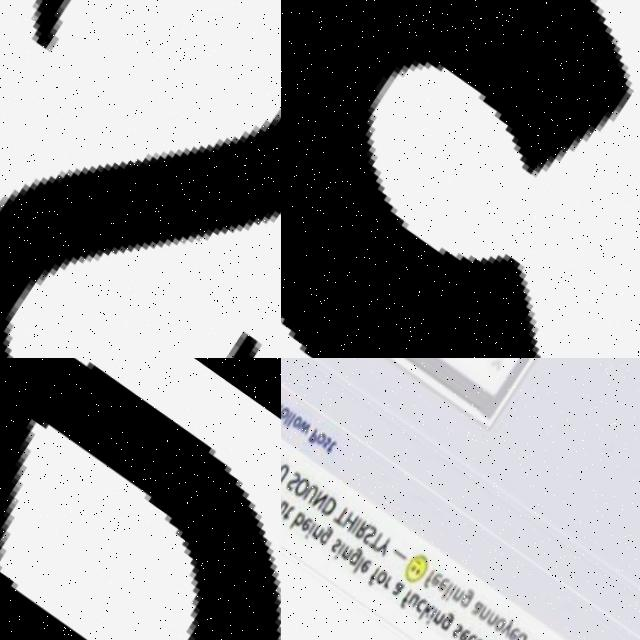A: (468, 593, 484, 614), (390, 576, 404, 595), (524, 631, 539, 640)
B: (287, 508, 307, 533)
C: (281, 0, 640, 358), (412, 592, 428, 611), (462, 626, 477, 640)
D: (318, 491, 338, 516), (509, 624, 527, 640)
E: (297, 510, 313, 531), (428, 566, 444, 585), (456, 621, 472, 639), (357, 554, 372, 573), (435, 570, 450, 589), (506, 619, 520, 638)
F: (364, 562, 382, 585), (397, 585, 414, 608), (420, 564, 436, 585)
G: (346, 542, 364, 565), (438, 605, 456, 628), (317, 523, 333, 544), (458, 583, 474, 604)
H: (340, 506, 360, 530)
I: (424, 601, 439, 622), (332, 538, 347, 558), (302, 518, 316, 539), (444, 578, 457, 598), (351, 515, 362, 531)
K: (416, 597, 434, 620)
L: (352, 552, 364, 572), (440, 578, 451, 595), (282, 408, 292, 424), (286, 411, 294, 426)
N: (310, 487, 328, 509), (484, 604, 500, 623), (310, 520, 325, 539), (431, 603, 446, 622), (476, 598, 491, 617), (450, 580, 464, 599), (338, 542, 352, 558), (477, 636, 492, 640)
O: (291, 472, 311, 498), (372, 564, 388, 583), (492, 609, 507, 628), (289, 412, 303, 428), (314, 429, 326, 444), (469, 630, 484, 640), (281, 403, 290, 419)
P: (304, 422, 320, 443)
R: (353, 516, 369, 537), (382, 570, 394, 587)
S: (0, 0, 281, 358), (283, 467, 303, 492), (360, 520, 378, 543), (448, 616, 464, 635), (328, 533, 342, 552), (320, 434, 332, 449), (530, 636, 545, 640)
T: (366, 525, 386, 549), (332, 501, 351, 523), (281, 502, 295, 520), (324, 436, 336, 452)
U: (300, 478, 320, 502), (406, 588, 420, 604), (281, 458, 290, 482), (281, 498, 289, 514)
W: (296, 416, 312, 434)
Y: (374, 529, 394, 554), (500, 611, 516, 632)
